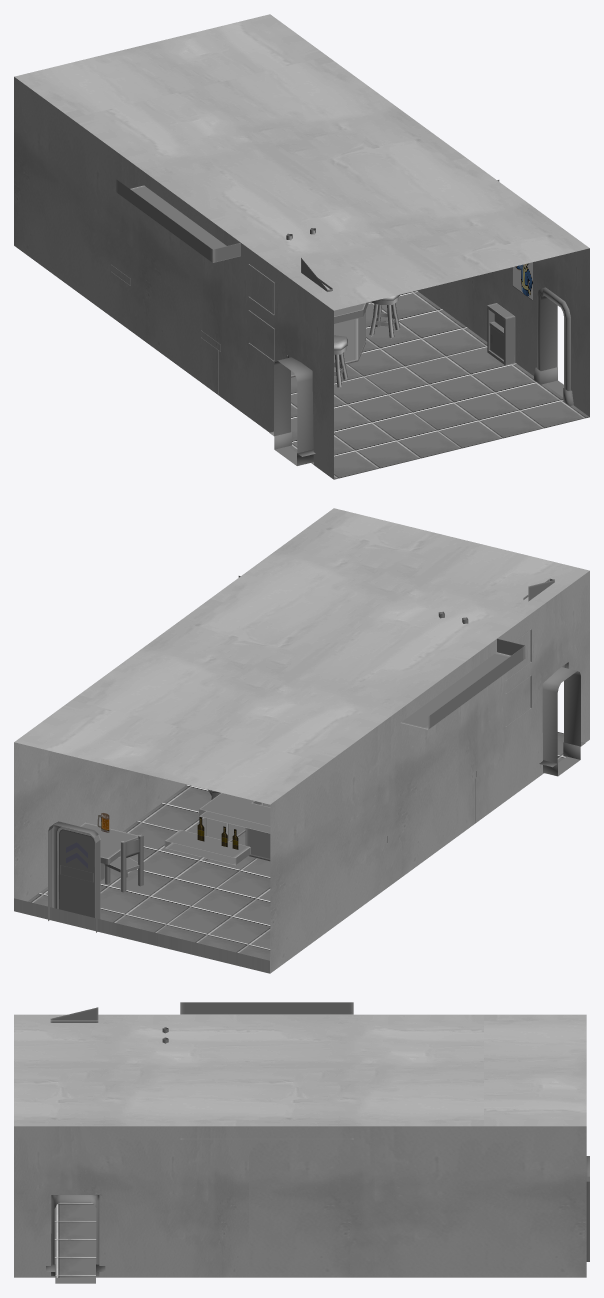
File: MSH_Bar_room_L2_R1.fbx
3 renders of one model, top to bottom at view 1: azimuth 30°, elevation 25°; view 2: azimuth 150°, elevation 25°; view 3: azimuth 270°, elevation 25°, orthographic. The views are drawn at different scales.
Parts seen in each view (by area): view 1: MSH_Bar_room_L2_R1_Walls, MSH_Bar_room_L2_R1 1, MSH_Bar_room_L2_R1_lights; view 2: MSH_Bar_room_L2_R1_Walls, MSH_Bar_room_L2_R1 1, MSH_Bar_room_L2_R1_lights; view 3: MSH_Bar_room_L2_R1_Walls, MSH_Bar_room_L2_R1 1, MSH_Bar_room_L2_R1_lights.
Boxes of the visible parts, left/top/right/bottom form: MSH_Bar_room_L2_R1_Walls: left=14, top=14, right=589, bottom=479; MSH_Bar_room_L2_R1 1: left=112, top=179, right=532, bottom=394; MSH_Bar_room_L2_R1_lights: left=274, top=295, right=563, bottom=465; MSH_Bar_room_L2_R1_Walls: left=14, top=508, right=589, bottom=973; MSH_Bar_room_L2_R1 1: left=48, top=576, right=531, bottom=932; MSH_Bar_room_L2_R1_lights: left=542, top=667, right=580, bottom=776; MSH_Bar_room_L2_R1_Walls: left=14, top=1007, right=586, bottom=1277; MSH_Bar_room_L2_R1 1: left=162, top=1002, right=589, bottom=1261; MSH_Bar_room_L2_R1_lights: left=54, top=1195, right=96, bottom=1283.
Bounding box in the file's own units: 10.82 × 6.39 × 20.24.
Materials: 17 (16 with a texture image).
